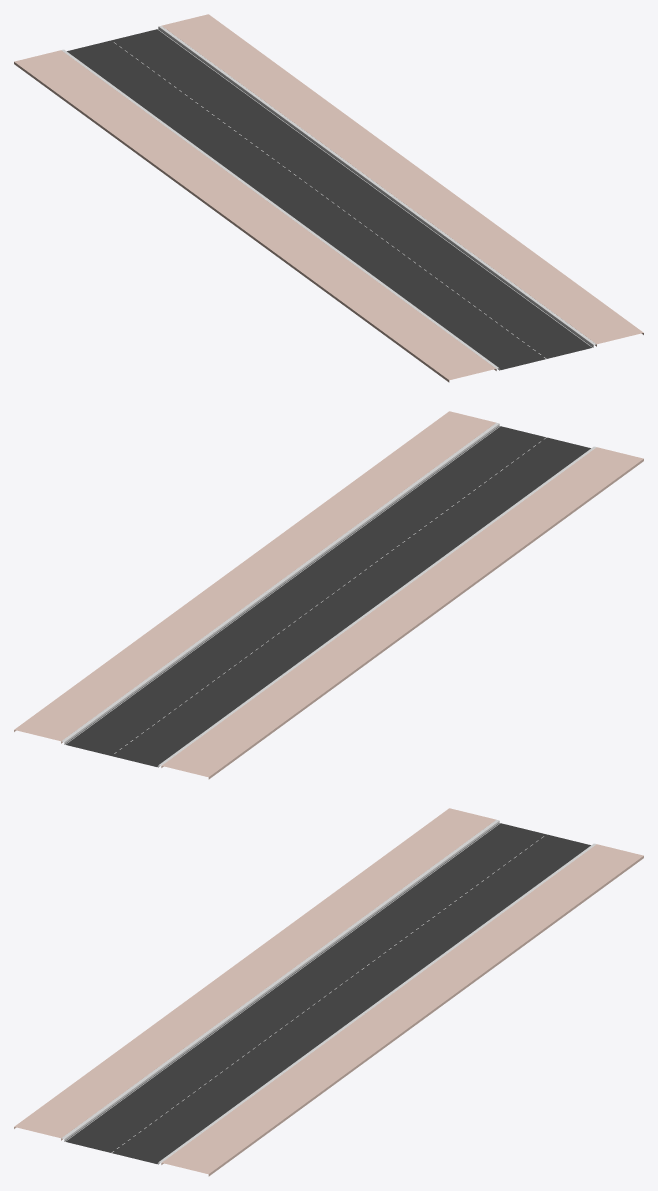
File: Road.fbx
The picture shows the model from 3 angles, top to bottom: view 1: azimuth 30°, elevation 25°; view 2: azimuth 150°, elevation 25°; view 3: azimuth 330°, elevation 25°; orthographic projection.
Visible parts, largest first — view 1: Road; view 2: Road; view 3: Road.
Part boxes in pixels (x1,y1,x2,y2): Road: (14, 14, 643, 382); Road: (14, 411, 643, 779); Road: (14, 808, 643, 1176).
Bounding box in the file's own units: 1239 × 15 × 4800.
